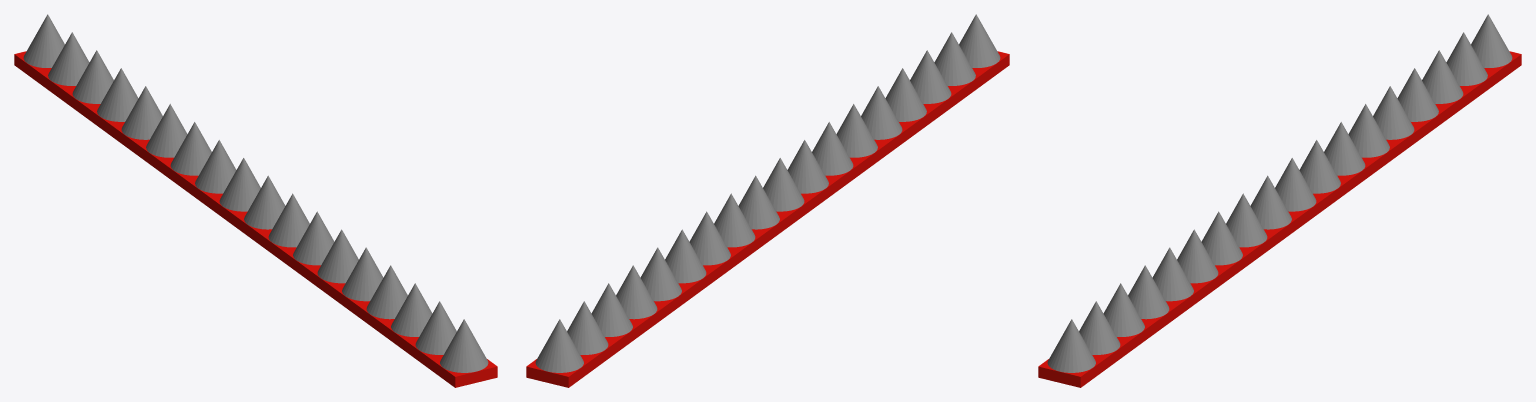
Rendered from Spikes.fbx.
3 views of the same model, side by side, from view 1: azimuth 30°, elevation 25°; view 2: azimuth 150°, elevation 25°; view 3: azimuth 330°, elevation 25° (orthographic).
Parts seen in each view (by area): view 1: Spikes; view 2: Spikes; view 3: Spikes.
Part boxes in pixels (box(x1,y1,x2,y2)): Spikes: box(14, 14, 497, 387); Spikes: box(526, 14, 1009, 387); Spikes: box(1038, 14, 1521, 387).
Bounding box in the file's own units: 200 × 248 × 3600.
